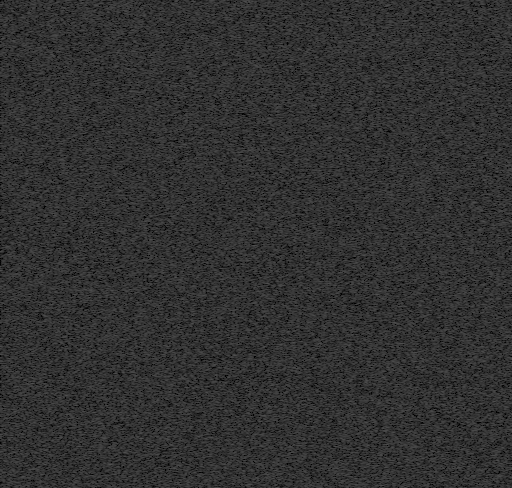wv_am: (413, 0, 419, 487), (444, 0, 449, 487)
wv_cw: (414, 0, 424, 488), (416, 0, 421, 487), (3, 0, 8, 487)
wv_lsb: (0, 4, 10, 488), (4, 5, 10, 149), (5, 266, 10, 414), (4, 150, 10, 265), (416, 196, 421, 330), (416, 107, 421, 185), (416, 331, 421, 401), (416, 4, 421, 56), (416, 57, 421, 106), (416, 402, 421, 449), (5, 447, 10, 488), (416, 450, 421, 487), (5, 415, 10, 446), (416, 186, 420, 195)
wv_usb: (3, 94, 9, 170), (3, 4, 9, 62), (4, 432, 8, 482), (3, 223, 8, 258), (3, 202, 8, 222), (4, 413, 8, 431), (4, 183, 8, 199), (4, 75, 8, 85), (4, 63, 8, 72), (4, 310, 8, 317), (4, 177, 8, 182), (4, 171, 8, 176), (4, 483, 8, 487), (4, 326, 8, 330), (4, 86, 8, 90), (4, 344, 7, 347)
